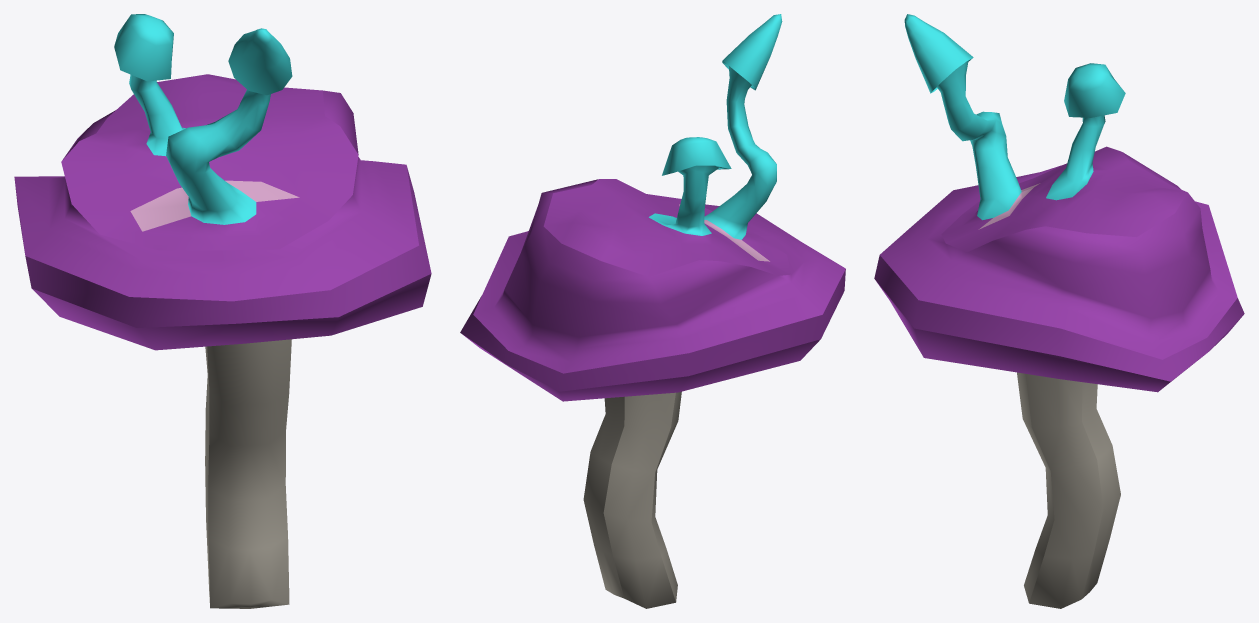
Rendered from Champiception_01.fbx.
The picture shows the model from 3 angles, left to right: view 1: azimuth 30°, elevation 25°; view 2: azimuth 150°, elevation 25°; view 3: azimuth 270°, elevation 25°; orthographic projection. The views are drawn at different scales.
Parts seen in each view (by area): view 1: Champi_04; view 2: Champi_04; view 3: Champi_04.
Part boxes in pixels (x1,y1,x2,y2): Champi_04: (14,14,431,608); Champi_04: (460,14,845,608); Champi_04: (874,14,1244,608).
Bounding box in the file's own units: 0.7631 × 1.23 × 0.7514.
